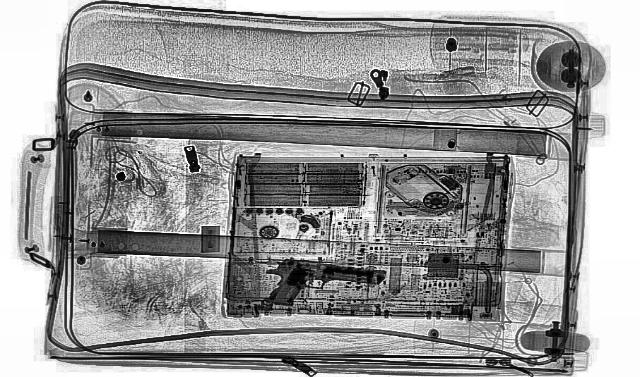Gun: (255, 252, 390, 318)
